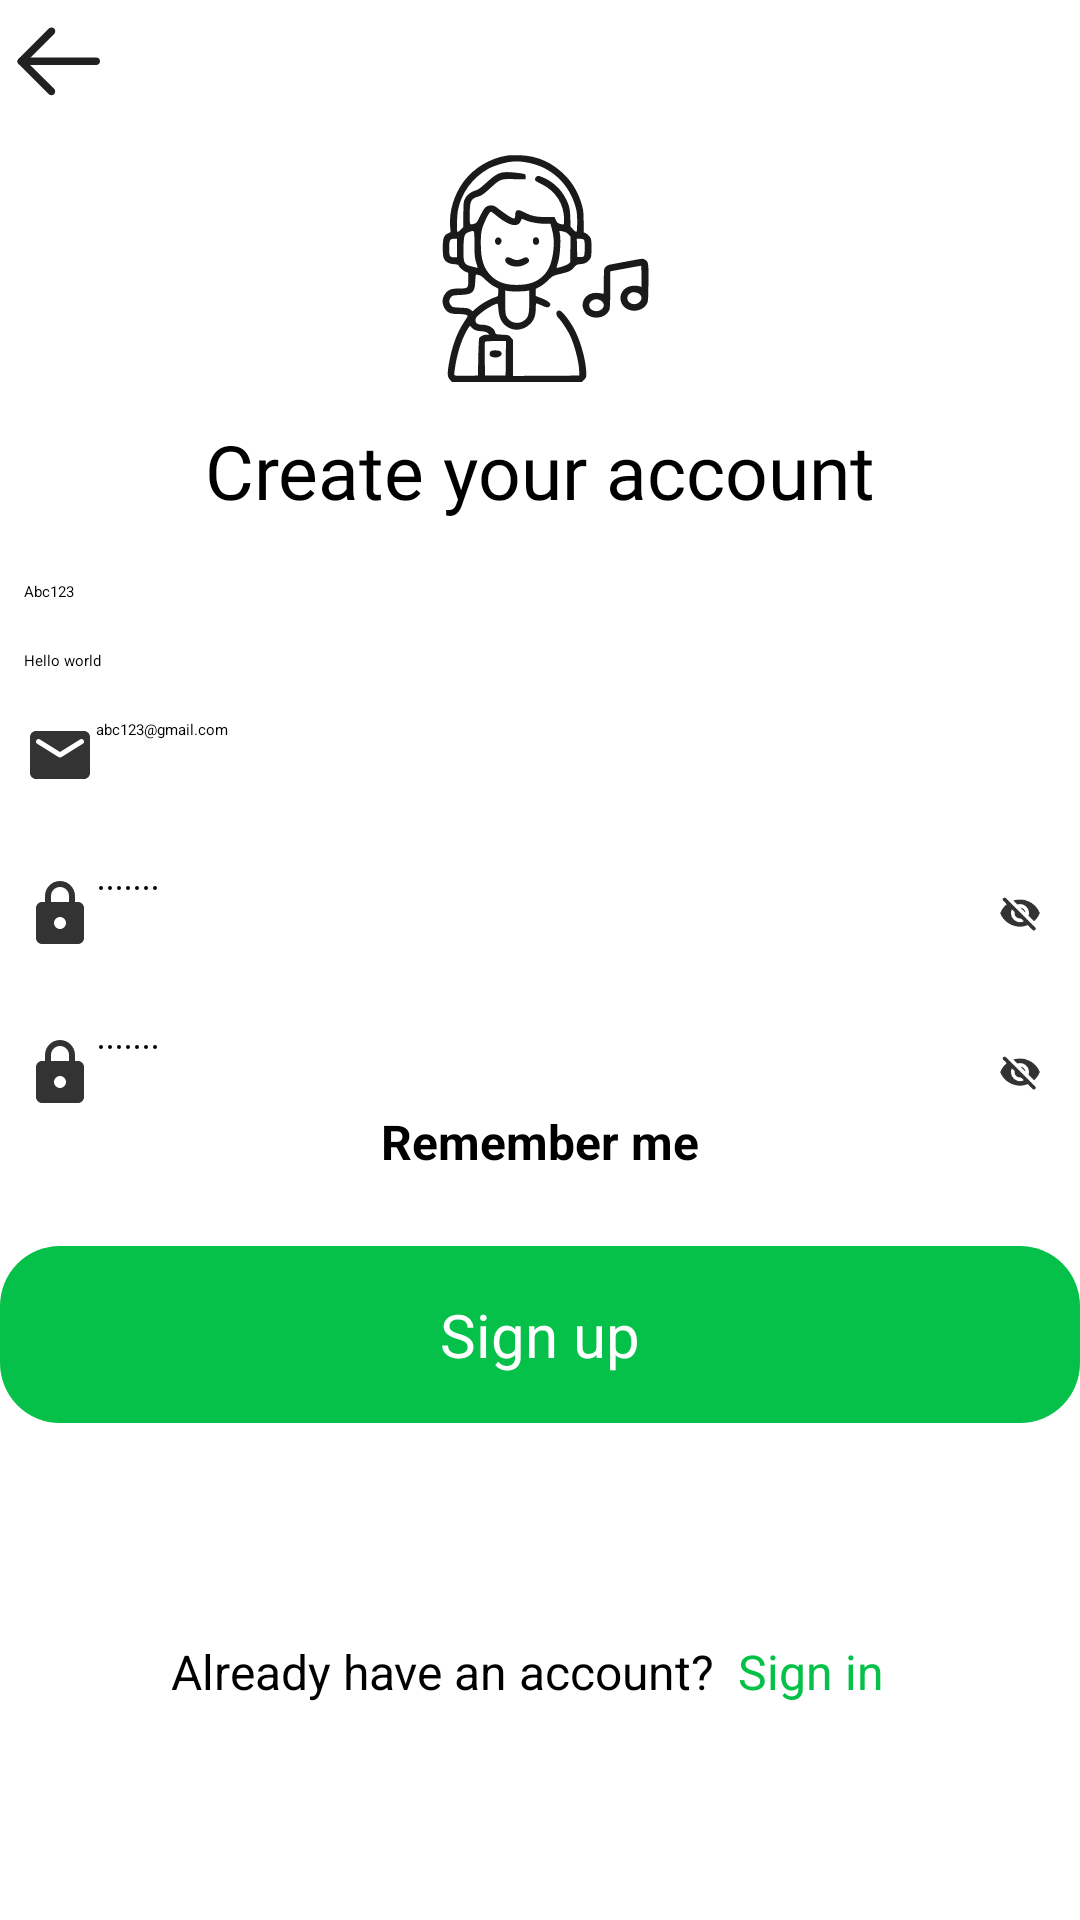

Named icons in this screenshot (1080w x 1920h) and their centers, (x,y):
arrow back: (58,61)
